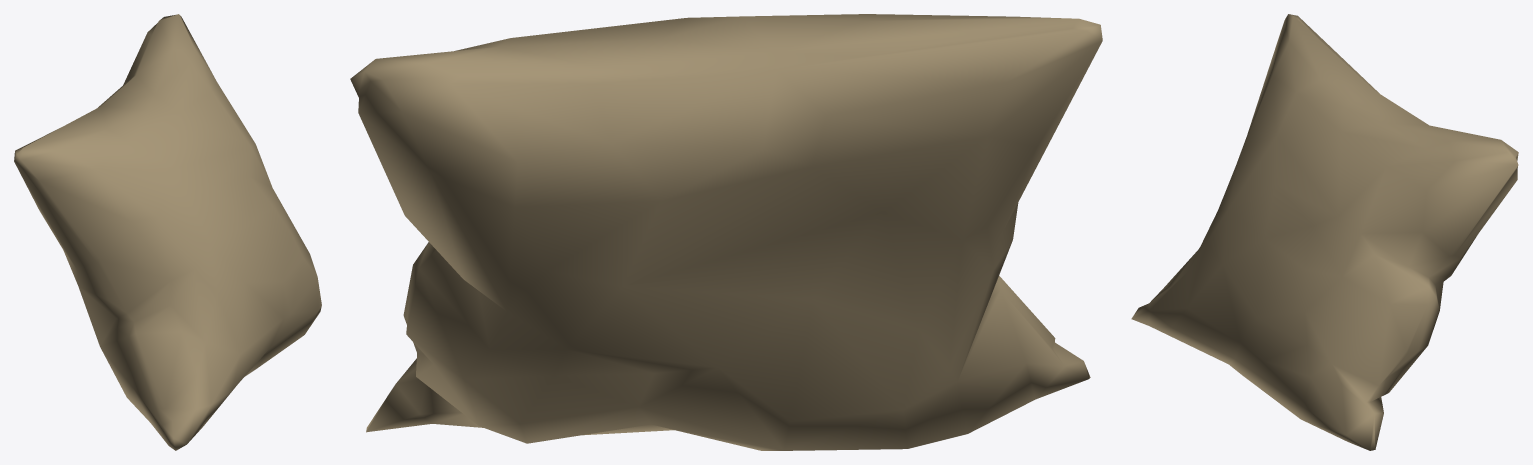
Rendered from cushion.019.fbx.
The picture shows the model from 3 angles, left to right: view 1: azimuth 30°, elevation 25°; view 2: azimuth 150°, elevation 25°; view 3: azimuth 270°, elevation 25°; orthographic projection. The views are drawn at different scales.
Parts seen in each view (by area): view 1: cushion.019; view 2: cushion.019; view 3: cushion.019.
Boxes of the visible parts, x1,y1,x2,y2 form: cushion.019: (14,14,321,450); cushion.019: (350,14,1102,450); cushion.019: (1131,14,1518,450).
Size of the model in its own units: 31.33 by 23.2 by 30.12.
